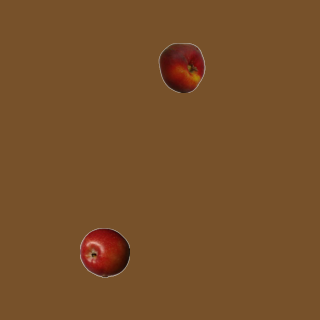Apple Braeburn: (79, 227, 129, 277)
Nectarine Flat: (156, 42, 206, 92)
